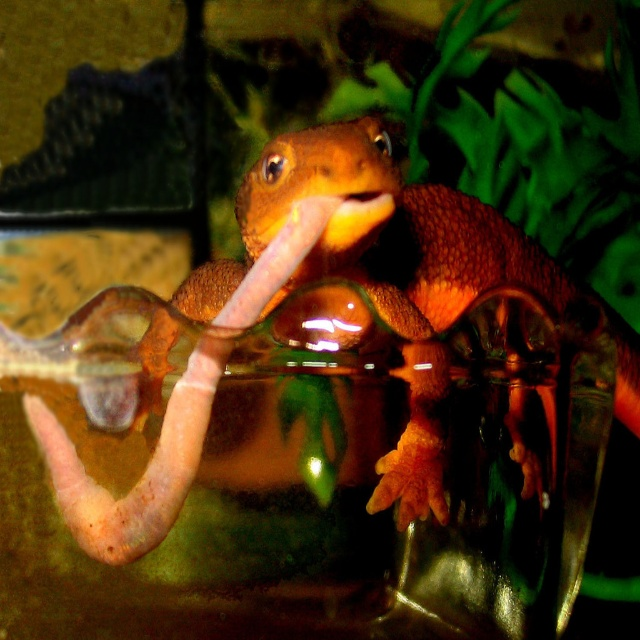Lizard: (22, 114, 639, 567)
